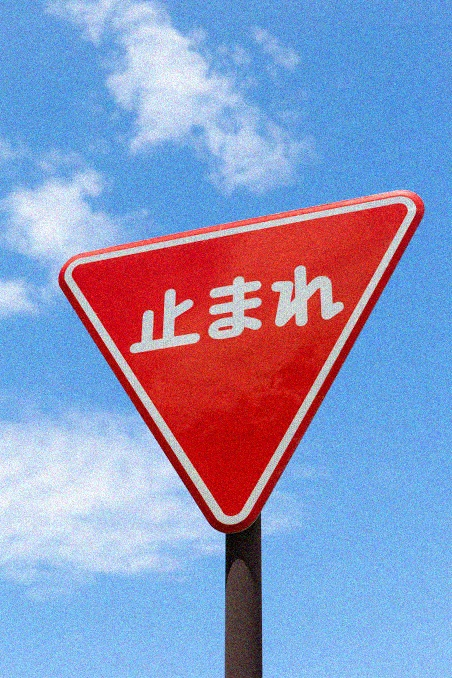Regulatory_sign_triangle: (42, 183, 441, 541)
